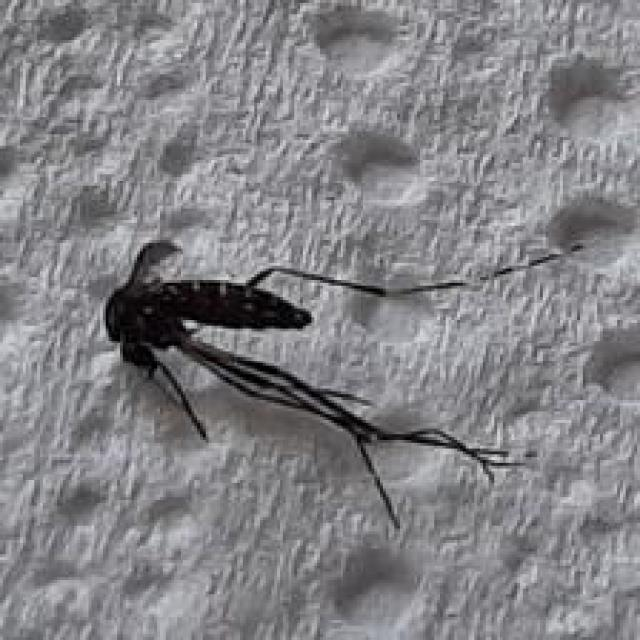Aedes albopictus: (103, 237, 526, 532)
